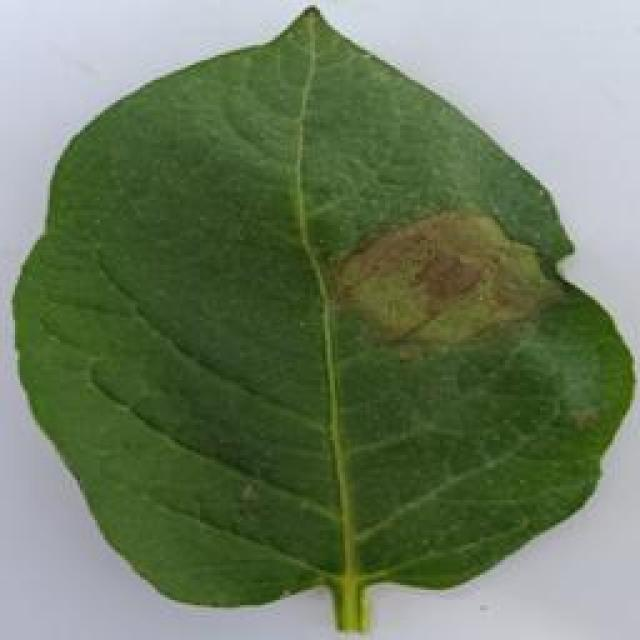Potato_Late_Blight: (12, 10, 634, 640)
